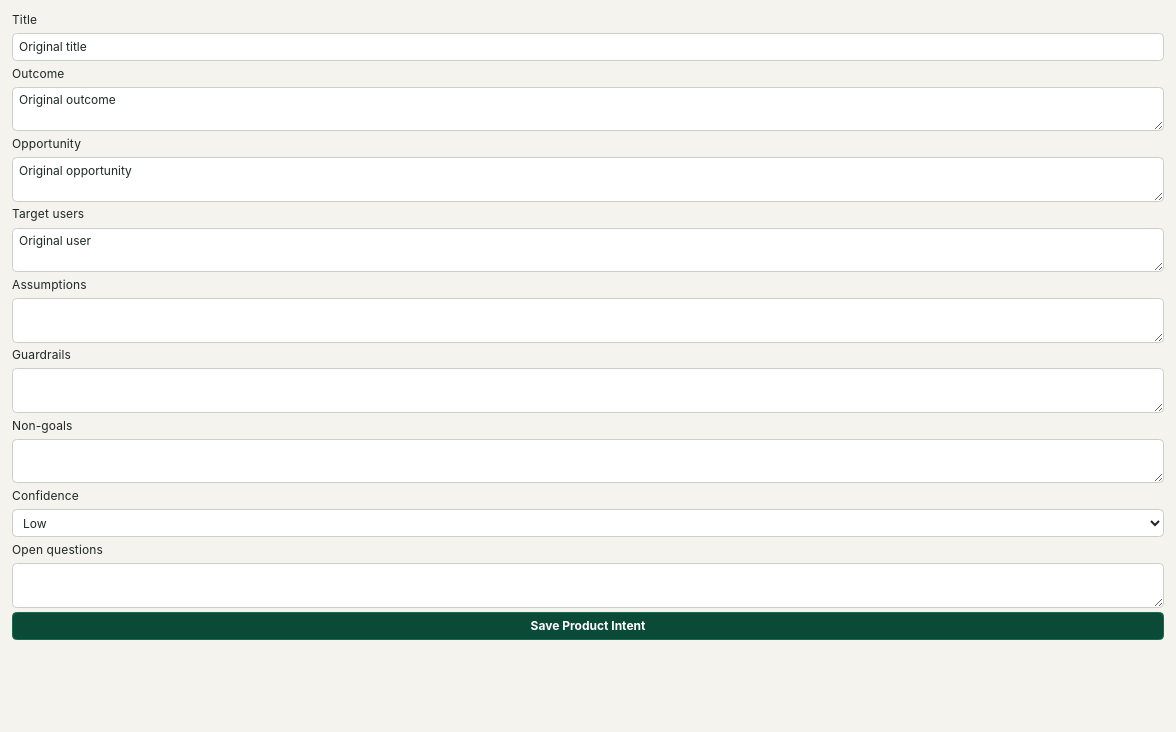
Test: ProductIntentEditor › AC-30 reports a refused save with the service's own message
Click the button "Save Product Intent" at (588, 626), box [12,612,1164,640]
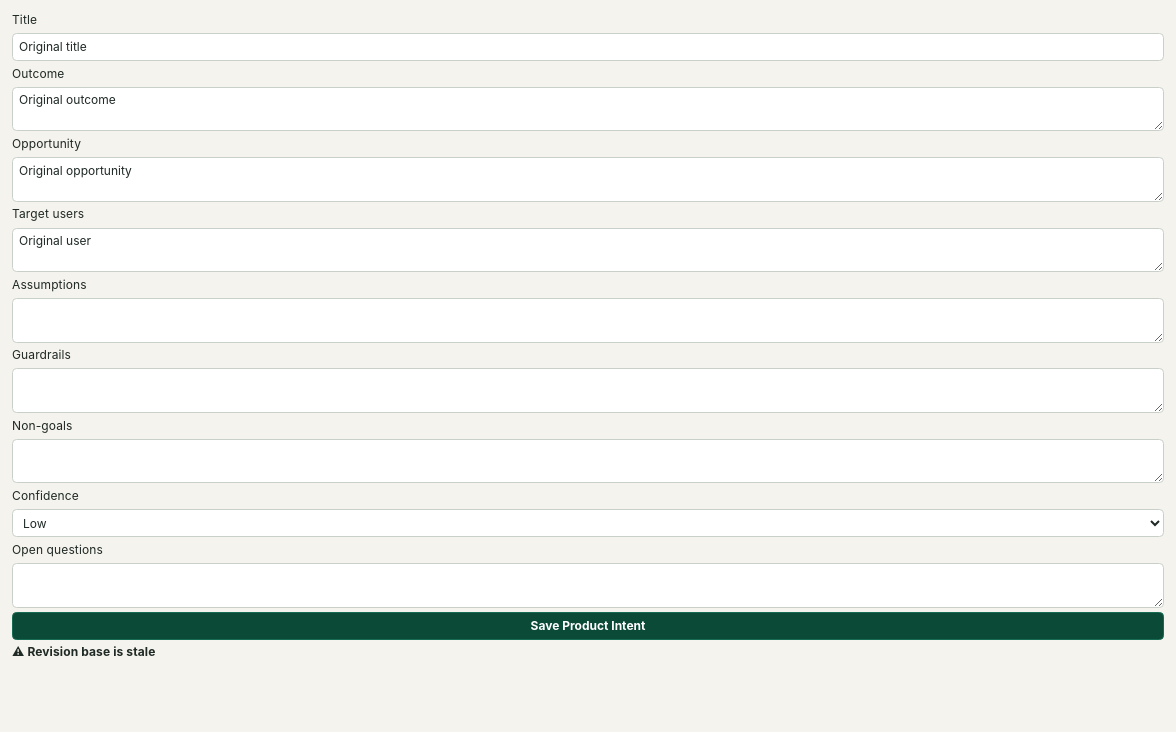
Check: the text "Revision base is stale" is shown, box [27,644,156,659]
